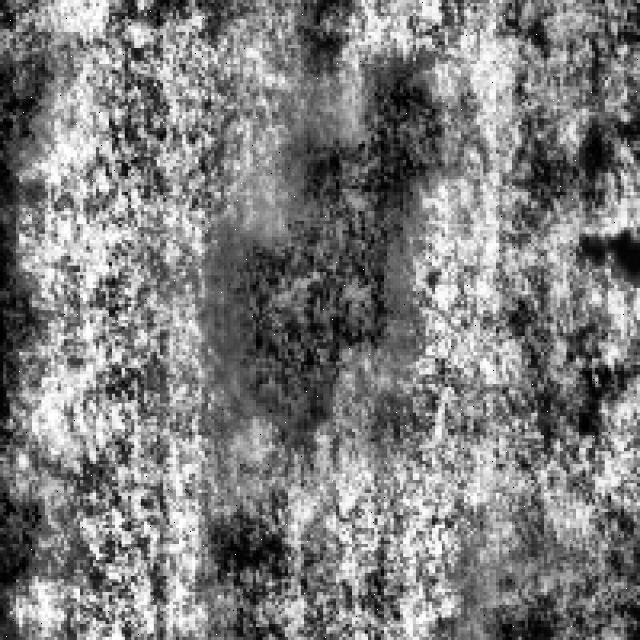Scratches: (208, 48, 483, 442)
